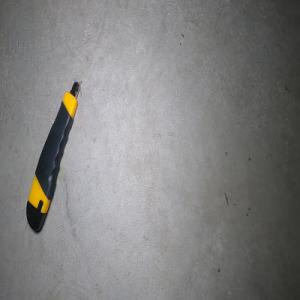Cutter: (25, 80, 81, 233)
